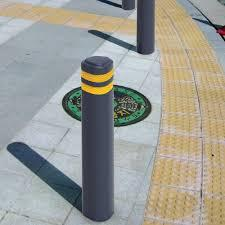Animal: (76, 50, 141, 225)
